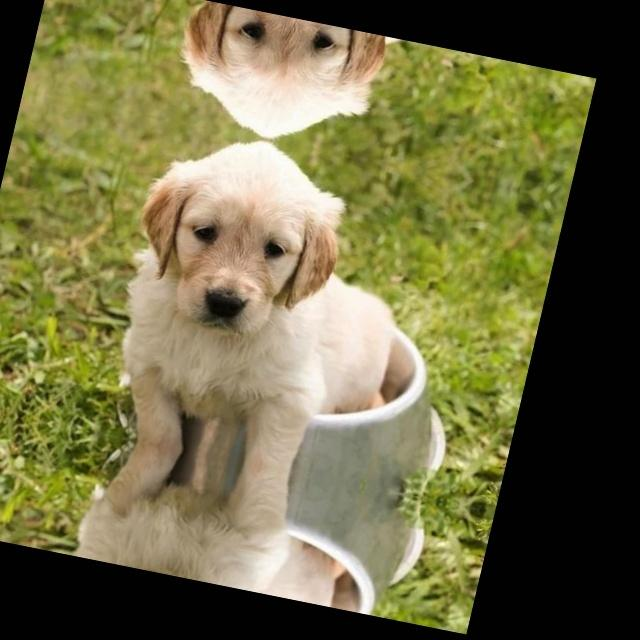dog: (106, 116, 371, 366), (154, 0, 400, 160), (52, 535, 274, 595)
